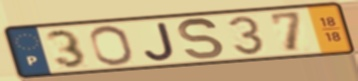3: (222, 14, 267, 57), (45, 27, 89, 69)
7: (268, 9, 306, 54)
J: (142, 21, 178, 62)
O: (88, 24, 137, 67)
S: (176, 16, 227, 61)
